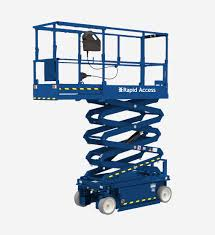Scissor Lift: (31, 21, 173, 216)
